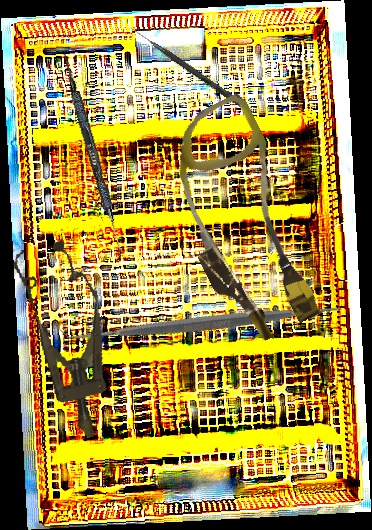Cannula: (139, 90, 347, 352)
Hook Surgical: (127, 25, 248, 110)
Spatula Surgical: (54, 173, 355, 473), (55, 49, 131, 261)
Speculum: (7, 235, 129, 447)
